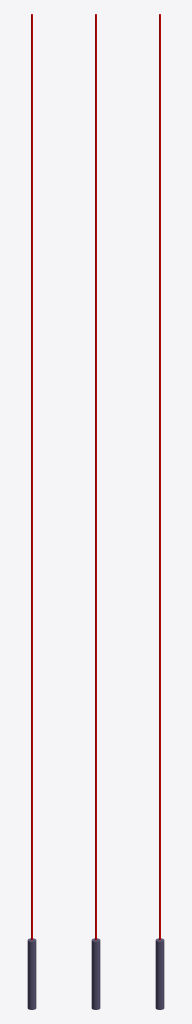
The picture shows the model from 3 angles, left to right: view 1: azimuth 90°, elevation 25°; view 2: azimuth 150°, elevation 25°; view 3: azimuth 270°, elevation 25°; orthographic projection.
Parts seen in each view (by area): view 1: Circle.001, Circle; view 2: Circle.001, Circle; view 3: Circle.001, Circle.
Part boxes in pixels (box(x1,y1,x2,y2)): Circle.001: box(31, 14, 32, 940); Circle: box(27, 938, 36, 1009); Circle.001: box(95, 14, 96, 940); Circle: box(91, 938, 100, 1009); Circle.001: box(159, 14, 160, 940); Circle: box(155, 938, 164, 1009).
Bounding box in the file's own units: 0.01 × 0.01 × 1.28.
